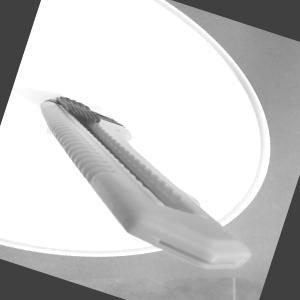estilete: (5, 88, 282, 282)
